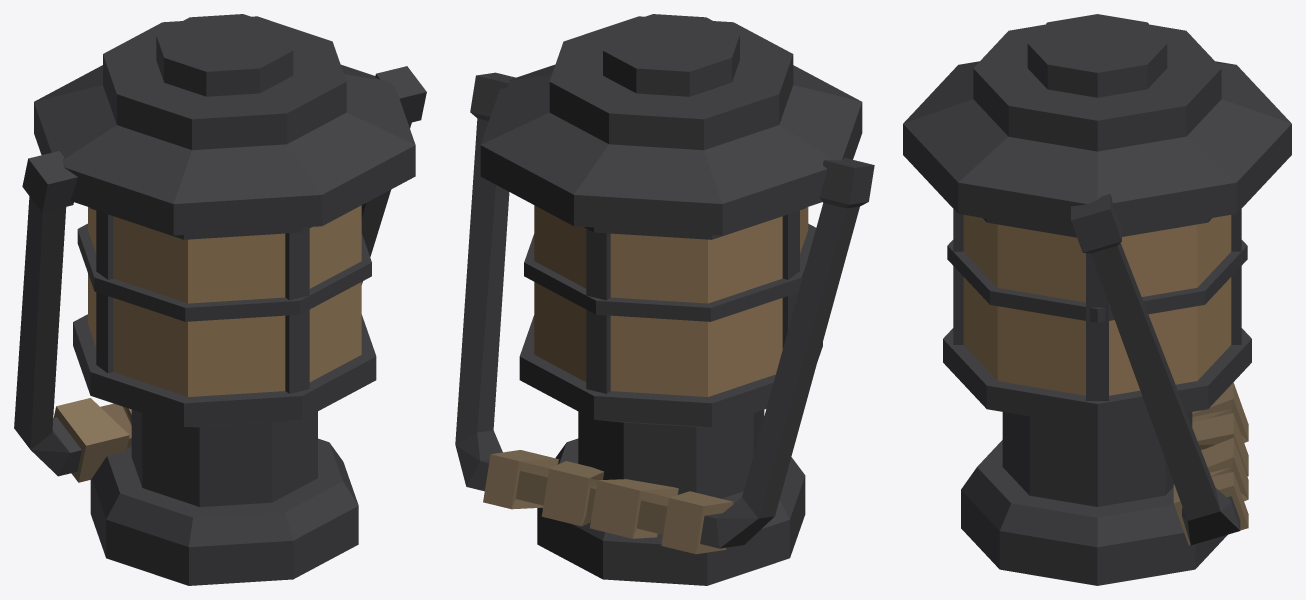
Rendered from SM_Item_Lantern_02.gltf.
The picture shows the model from 3 angles, left to right: view 1: azimuth 30°, elevation 25°; view 2: azimuth 150°, elevation 25°; view 3: azimuth 270°, elevation 25°; orthographic projection.
Visible parts, largest first — view 1: SM_Item_Lantern_02; view 2: SM_Item_Lantern_02; view 3: SM_Item_Lantern_02.
Part boxes in pixels (x1,y1,x2,y2): SM_Item_Lantern_02: [14, 14, 426, 585]; SM_Item_Lantern_02: [455, 14, 874, 585]; SM_Item_Lantern_02: [903, 14, 1291, 585].
Bounding box in the file's own units: 0.2889 × 0.3542 × 0.2575.
1 material, 1 textured.
